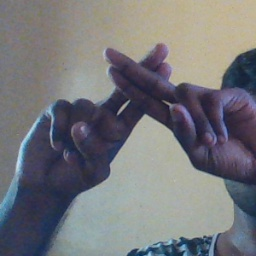F: (62, 38, 224, 159)
